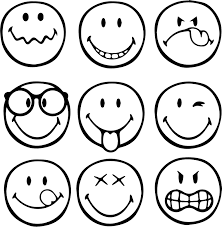feliz: (78, 82, 152, 157), (1, 83, 75, 151), (80, 3, 147, 78), (74, 160, 151, 225), (1, 162, 76, 227), (157, 78, 222, 150), (3, 1, 69, 67), (84, 93, 140, 151), (85, 168, 140, 221), (162, 94, 214, 142), (83, 14, 138, 59), (11, 168, 59, 217), (16, 94, 64, 138), (7, 10, 59, 50)
